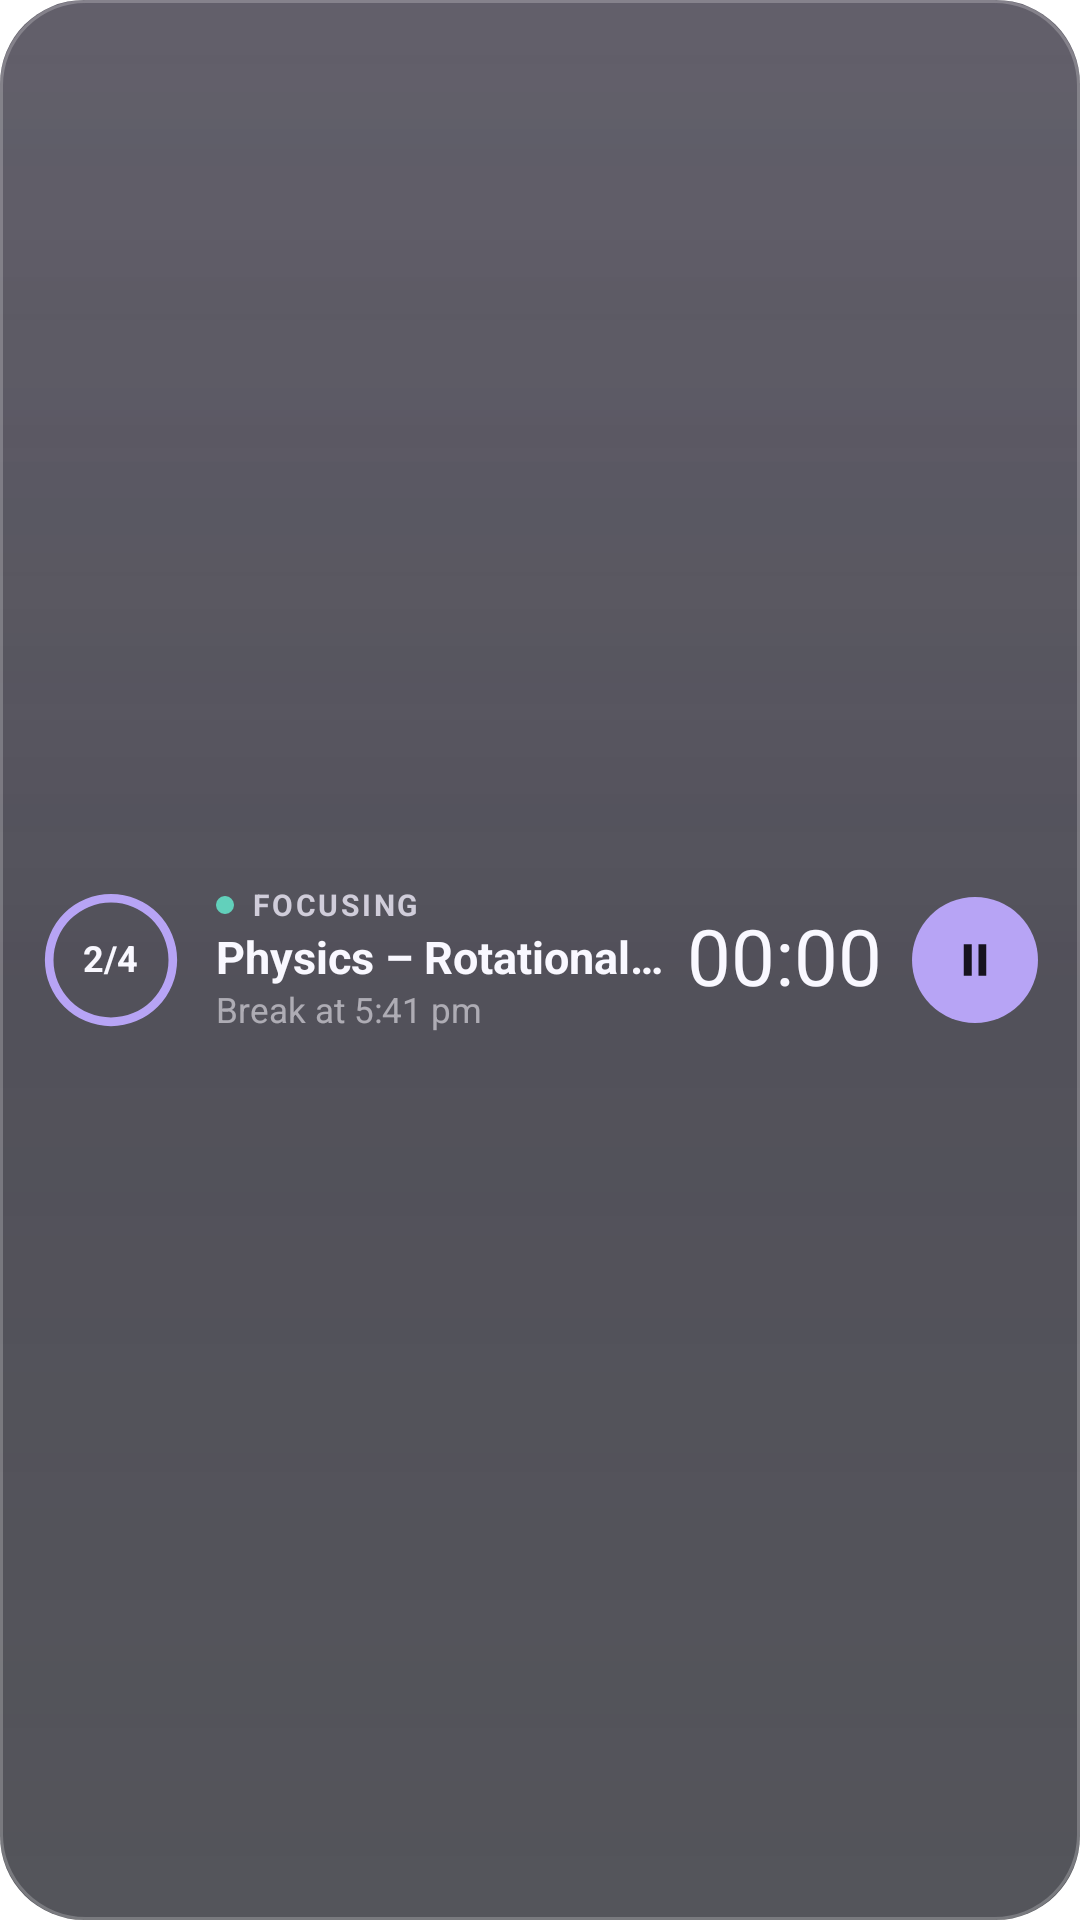

Icons on this 1080w x 1920h Android screen, each with the point to tap as point (x, y):
widget ring: point (111, 960)
